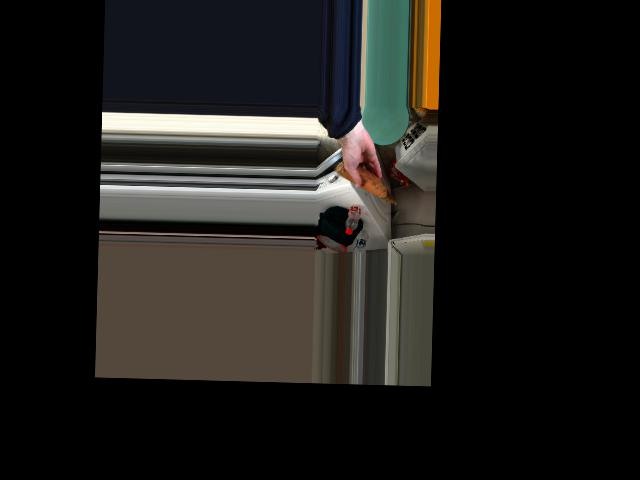sweet_potato: (348, 165, 383, 199)
